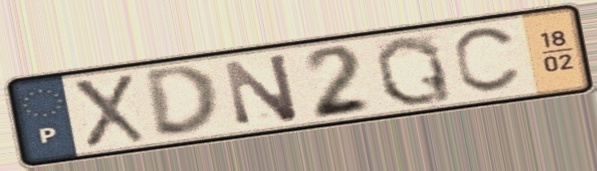2: (299, 43, 376, 122)
C: (449, 23, 524, 96)
D: (140, 62, 224, 140)
N: (219, 50, 303, 128)
Q: (371, 33, 457, 109)
X: (66, 71, 151, 151)
